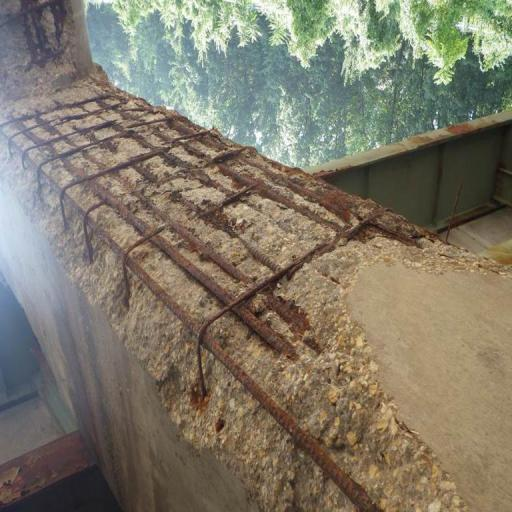spalling: (1, 76, 512, 511)
